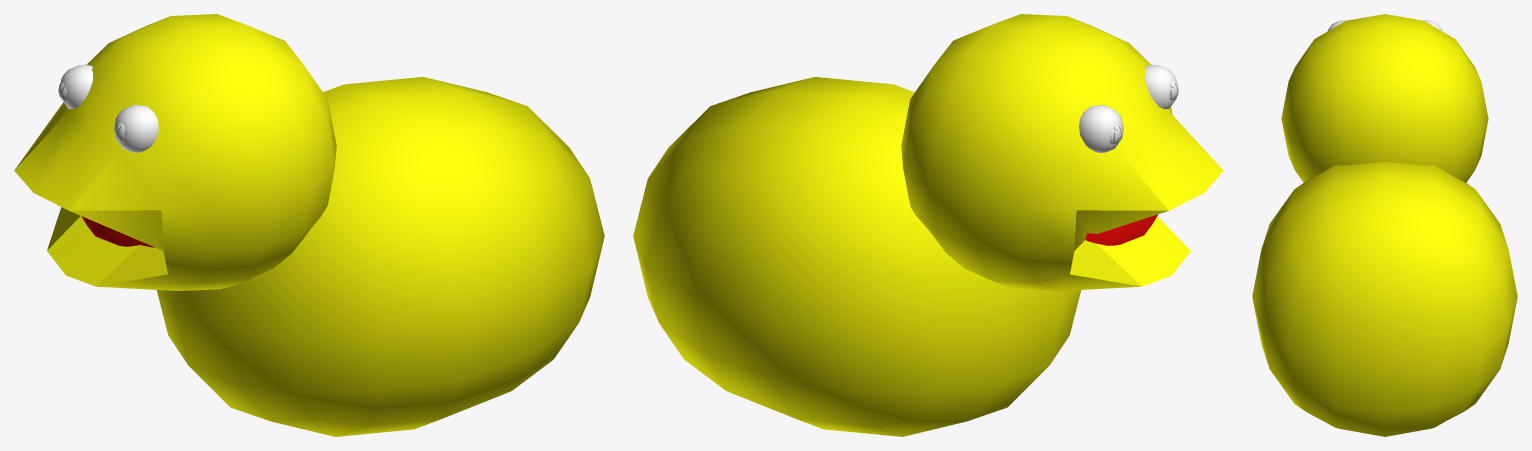
Rendered from item-duck.glb.
The picture shows the model from 3 angles, left to right: view 1: azimuth 30°, elevation 25°; view 2: azimuth 150°, elevation 25°; view 3: azimuth 270°, elevation 25°; orthographic projection. The views are drawn at different scales.
Size of the model in its own units: 3.87 by 2.9 by 2.15.
4 materials, 1 textured.
